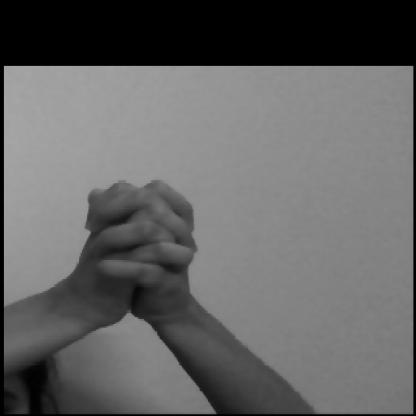prayer: (45, 165, 236, 350)
